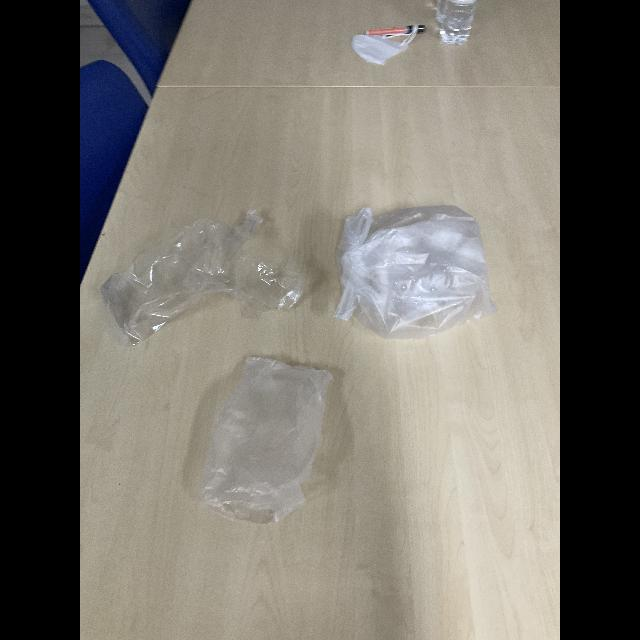plastic_bag: (312, 189, 500, 339)
scrap_plastic: (170, 346, 356, 524), (91, 218, 319, 342)
